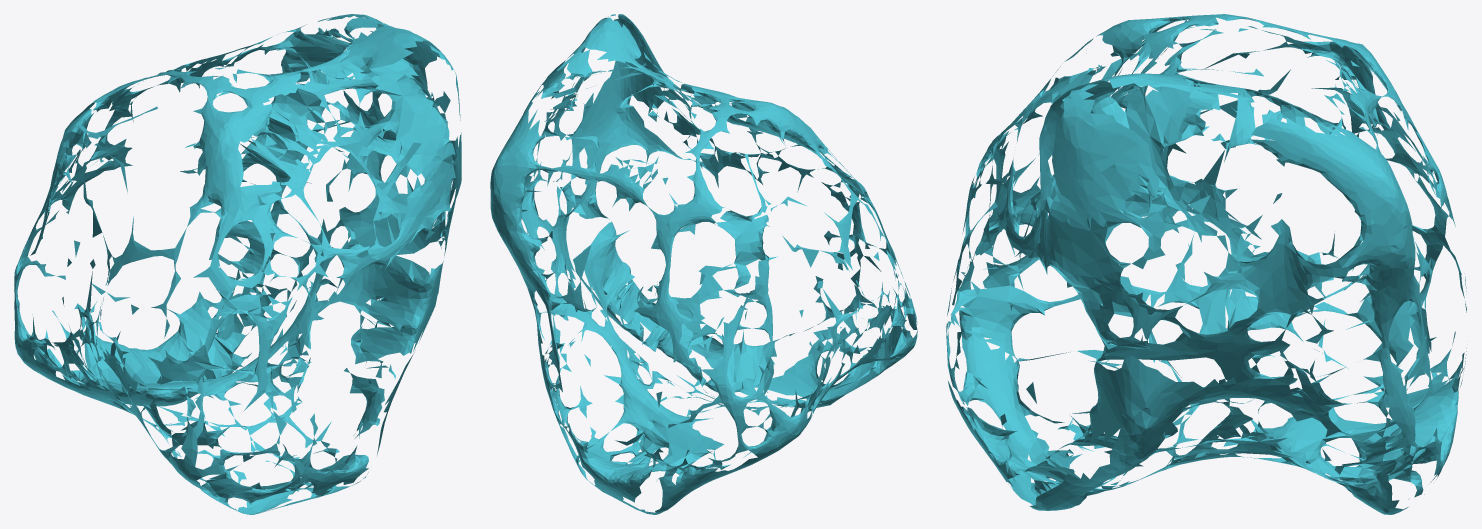
3 renders of one model, left to right at view 1: azimuth 30°, elevation 25°; view 2: azimuth 150°, elevation 25°; view 3: azimuth 270°, elevation 25°, orthographic. The views are drawn at different scales.
Visible parts, largest first — view 1: Renderer Node; view 2: Renderer Node; view 3: Renderer Node.
Part boxes in pixels (x1,y1,x2,y2): Renderer Node: (14,14,461,514); Renderer Node: (490,14,917,514); Renderer Node: (946,14,1466,514).
Bounding box in the file's own units: 0.5725 × 0.6515 × 0.6037.
Materials: 1 (1 with a texture image).
